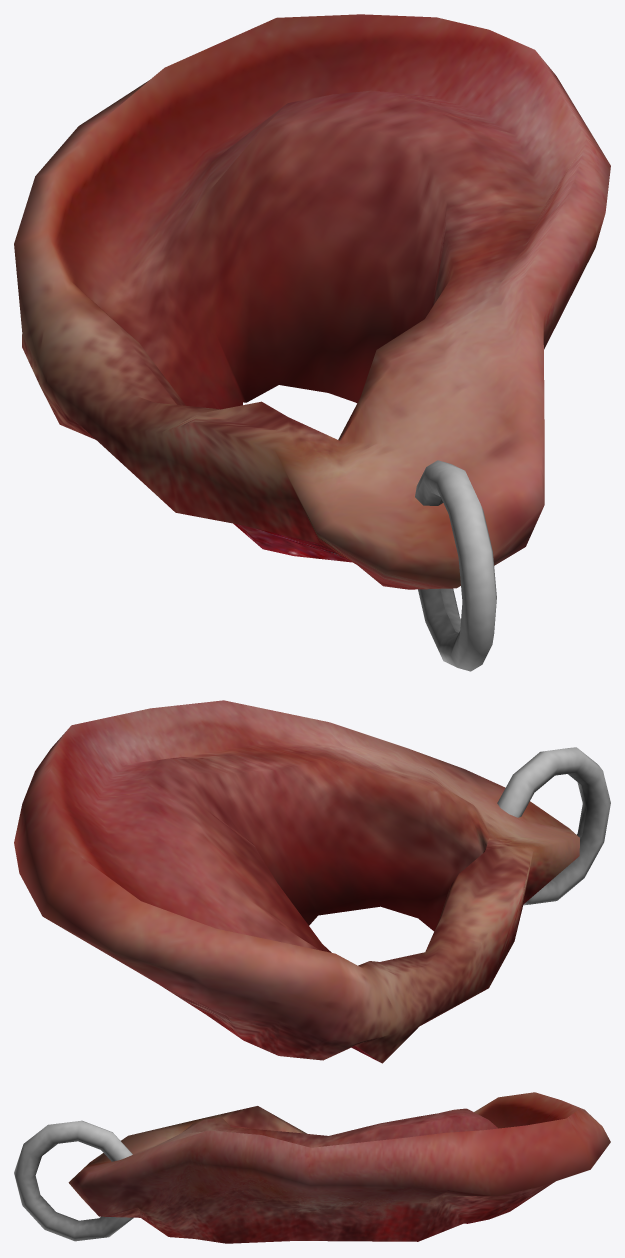
Rendered from ear_1.fbx.
The picture shows the model from 3 angles, top to bottom: view 1: azimuth 30°, elevation 25°; view 2: azimuth 150°, elevation 25°; view 3: azimuth 270°, elevation 25°; orthographic projection. The views are drawn at different scales.
Visible parts, largest first — view 1: Ear_1, ring_ear; view 2: Ear_1, ring_ear; view 3: Ear_1, ring_ear.
Part boxes in pixels (x1,y1,x2,y2): Ear_1: [14, 14, 610, 589]; ring_ear: [415, 460, 496, 671]; Ear_1: [14, 700, 579, 1063]; ring_ear: [497, 747, 610, 905]; Ear_1: [68, 1092, 610, 1243]; ring_ear: [14, 1120, 133, 1241].
Bounding box in the file's own units: 0.0291 × 0.0193 × 0.0503.
